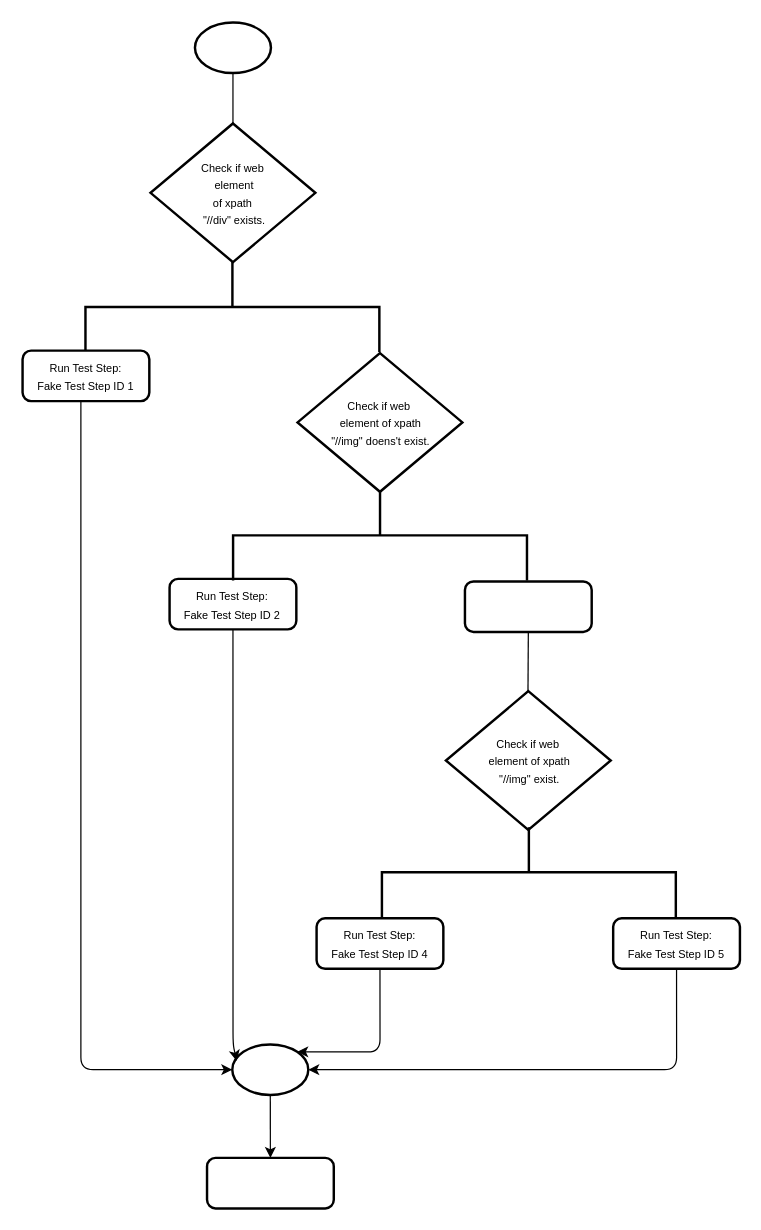
Image size: 761x1230. Some labels were removed from this diagram. The shapes that lost their labels are listed below. From the top down, each one's centre as x and y in pixels, then its label:
At point 232,47: "Start".
At point 527,606: "Run Test Step: Fake Test Step ID 3".
At point 269,1182: "Run Test Step: Fake Test Step ID 6".
